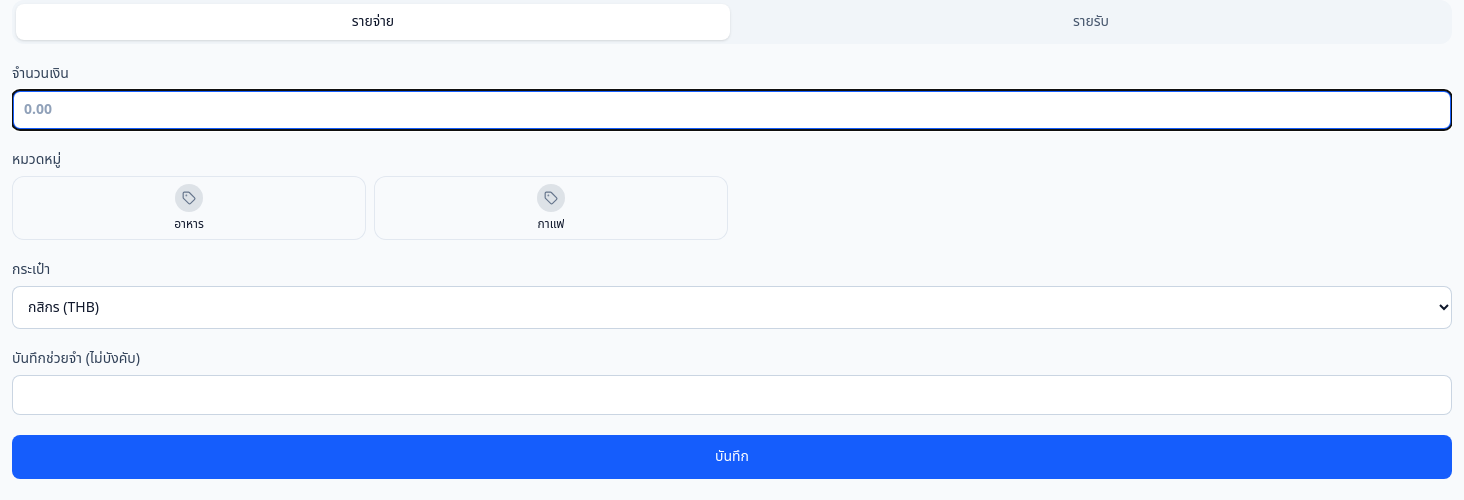
Test: <QuickAddForm> › switching to income shows only income categories and clears the selection
This screenshot has width=1464, height=500.
What coordinates should you click on to do the following:
click the button "อาหาร"
I would click on:
 (189, 208)
Its box is [12,176,366,240].
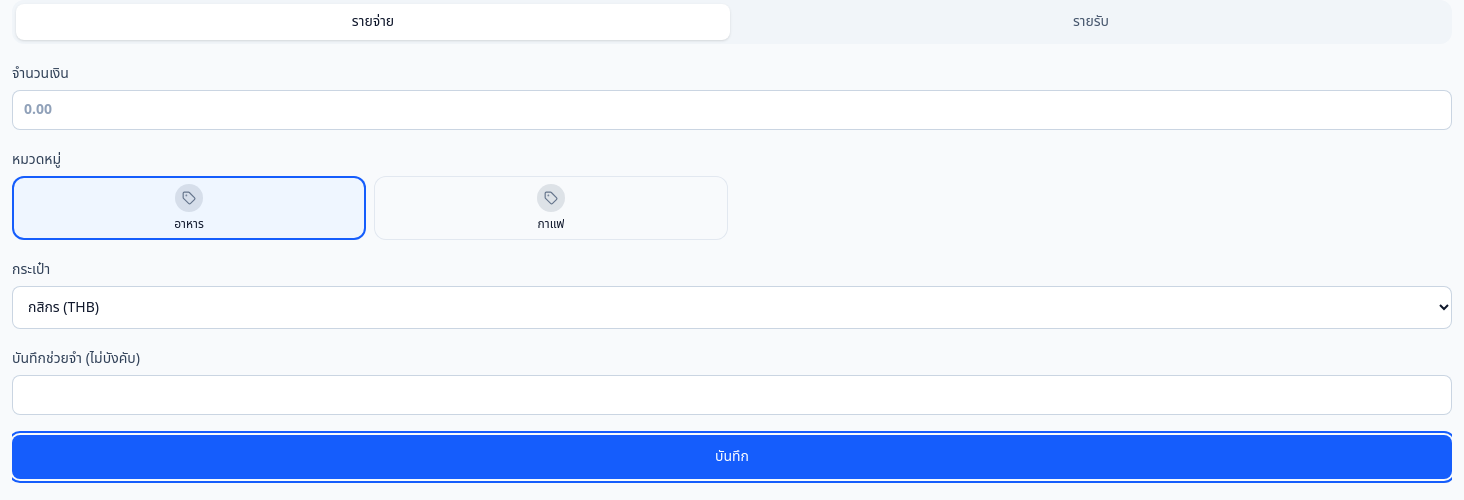
What coordinates should you click on to do the following:
click the radio button labelled "รายรับ"
I would click on:
 (1091, 22)
Its box is [734,4,1448,40].
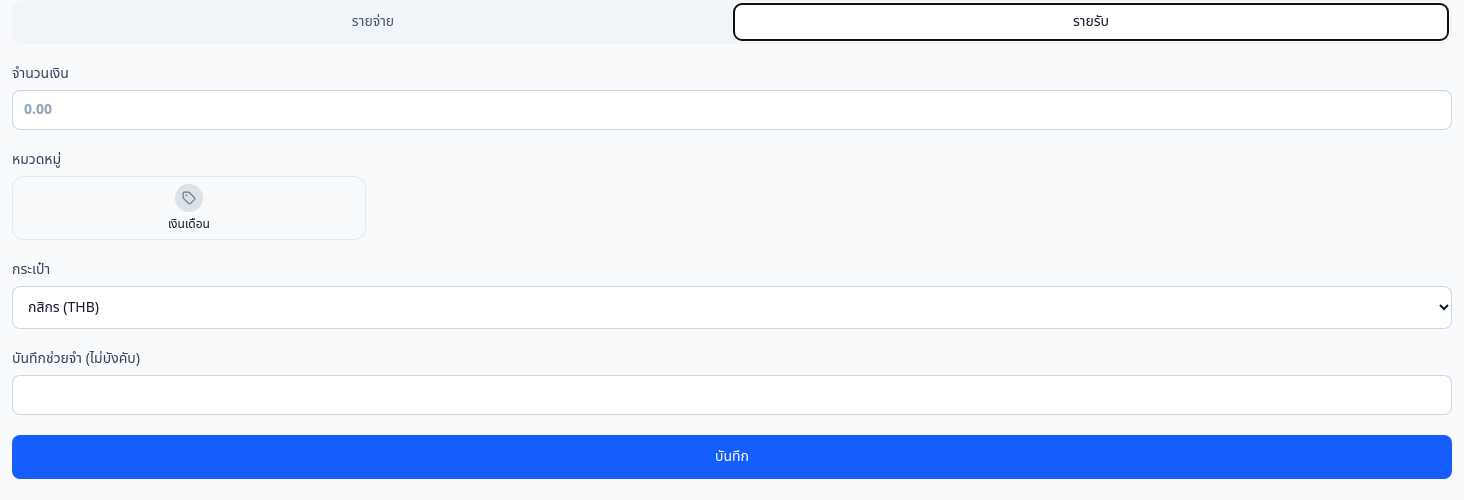
expect the button "เงินเดือน" is shown: met, box [12,176,366,240]
expect the button "อาหาร" is gone: met
